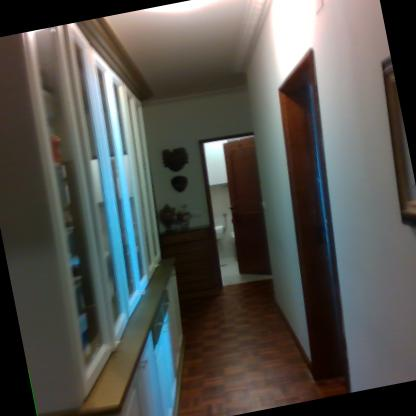semi: (190, 122, 292, 302)
